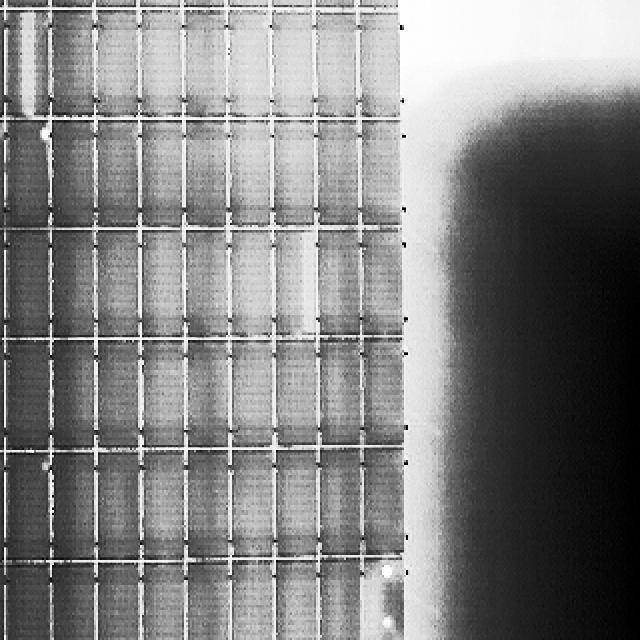Hotspots: (380, 558, 408, 580), (377, 617, 395, 632), (40, 127, 51, 142), (39, 461, 50, 475)
PV-modules: (8, 336, 57, 450), (51, 337, 100, 450), (49, 11, 98, 120), (227, 449, 274, 562), (50, 226, 98, 336), (8, 122, 55, 234), (357, 123, 404, 233), (359, 338, 406, 448), (223, 12, 269, 123), (4, 452, 51, 560), (186, 343, 233, 451), (316, 231, 362, 341), (315, 119, 361, 229), (185, 450, 231, 560), (137, 120, 183, 230), (136, 11, 182, 120), (268, 13, 314, 122), (50, 123, 96, 232), (141, 449, 185, 562), (138, 339, 184, 447), (96, 232, 142, 340), (4, 230, 50, 338), (184, 124, 230, 232), (97, 344, 143, 452), (138, 232, 183, 342), (184, 10, 229, 120), (232, 229, 277, 339), (98, 450, 143, 560), (91, 13, 136, 123), (9, 11, 54, 120), (96, 120, 141, 229), (187, 225, 231, 336), (51, 453, 96, 561), (359, 228, 403, 338), (274, 449, 318, 559), (318, 447, 362, 556), (270, 120, 314, 229), (357, 13, 400, 124), (361, 447, 404, 558), (231, 124, 275, 232), (272, 232, 315, 342), (233, 343, 277, 450), (319, 338, 363, 445), (274, 343, 318, 450), (318, 13, 361, 122), (228, 564, 275, 640), (280, 563, 326, 640), (51, 567, 99, 640), (4, 567, 51, 640), (138, 566, 184, 640), (97, 566, 143, 640), (319, 563, 362, 640), (360, 562, 402, 640), (188, 565, 230, 640), (0, 453, 6, 565), (354, 0, 396, 12), (0, 230, 4, 342), (4, 0, 48, 10), (46, 0, 94, 8), (136, 0, 182, 8), (222, 0, 268, 8), (268, 0, 312, 8), (94, 0, 138, 8), (180, 0, 224, 8), (314, 0, 358, 8), (0, 338, 2, 450), (0, 122, 2, 232), (0, 10, 2, 118), (0, 567, 2, 640), (0, 0, 2, 10)
